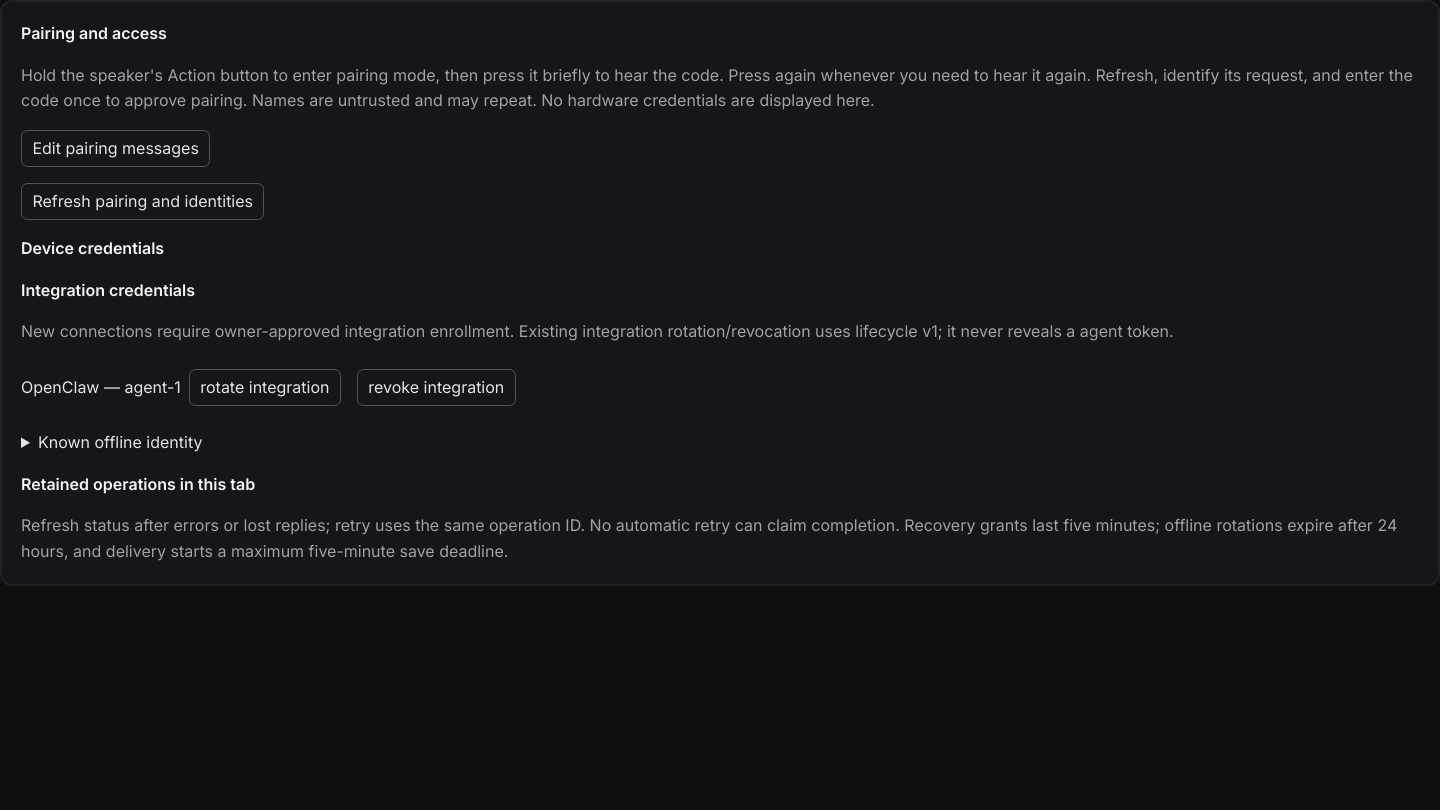
Test case: retains integration revoke ID before a possibly committed error and retries that same operation
Click the button "revoke integration".
click(436, 388)  # box [357,369,516,406]
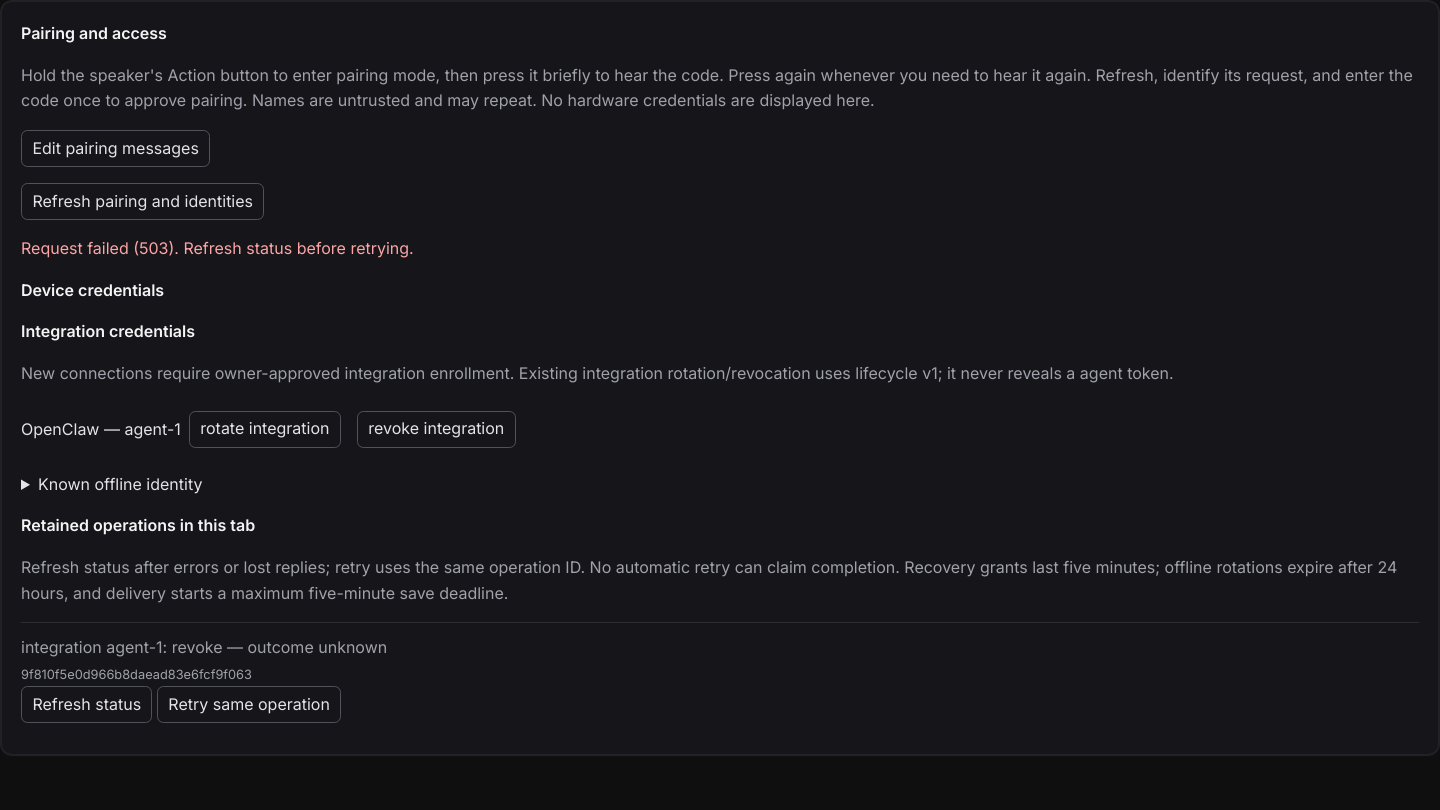
Expected: the message "Request failed (503). Refresh status before retrying." is shown, [21,238,414,258]
Expected: the text "integration agent-1: revoke — outcome unknown" is shown, [21,637,387,657]
Click the button "Retry same operation".
click(249, 705)  # box [157,686,341,724]
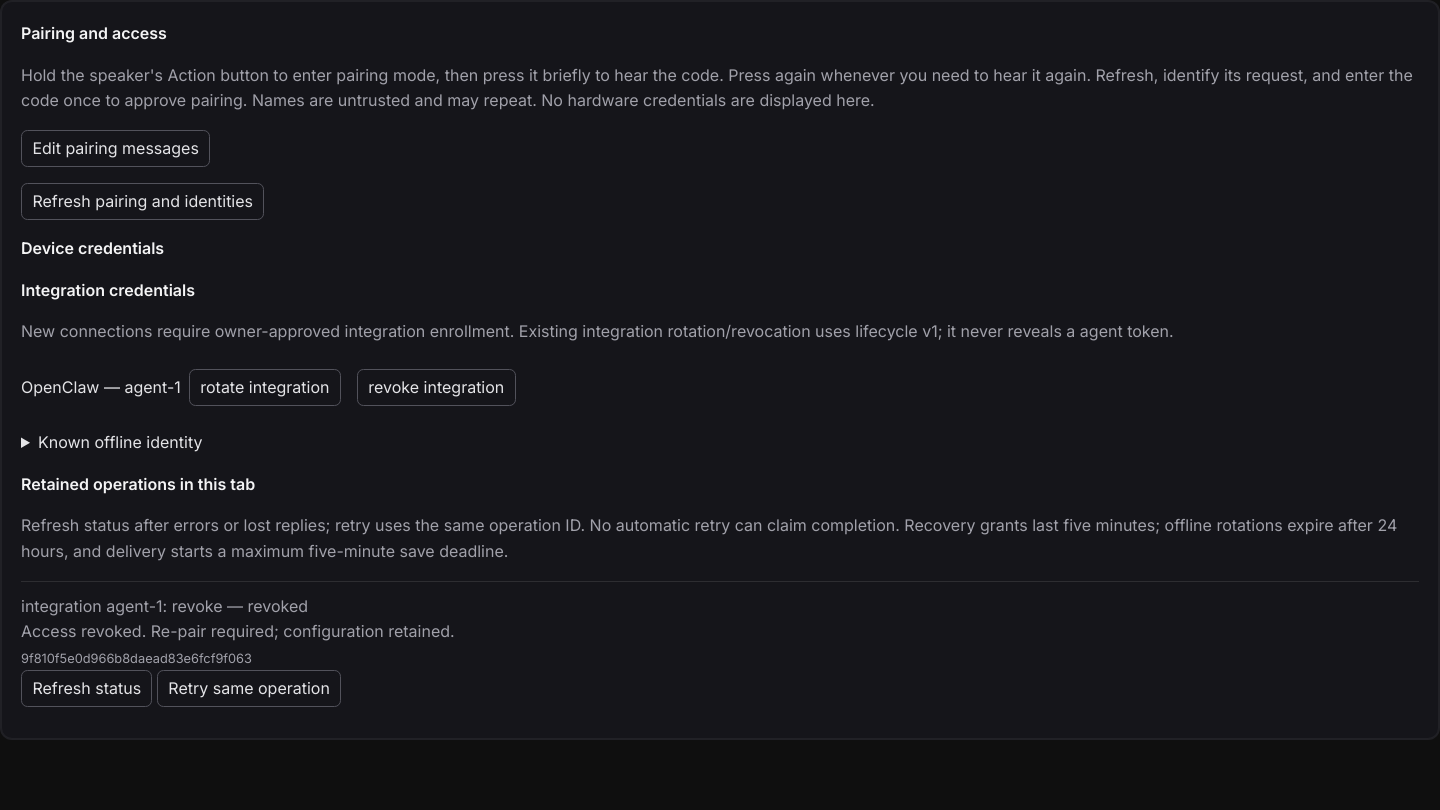
Expected: the text "Access revoked. Re-pair required; configuration retained." is shown, [21,621,455,641]
